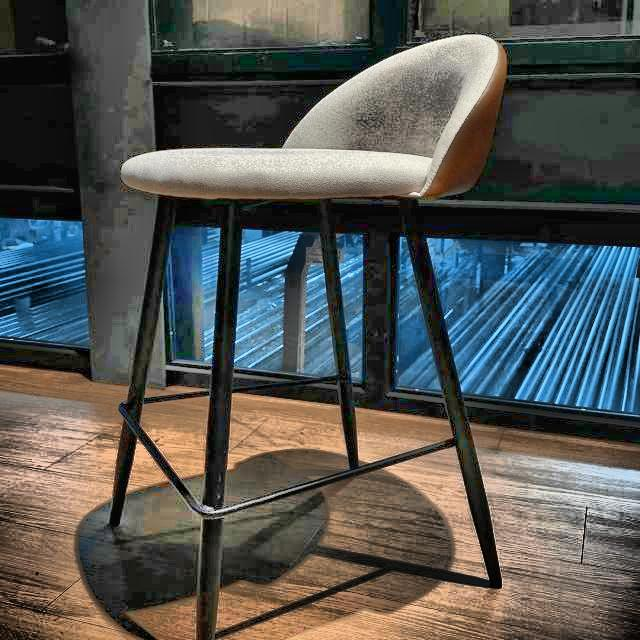cadeira: (98, 28, 519, 640)
